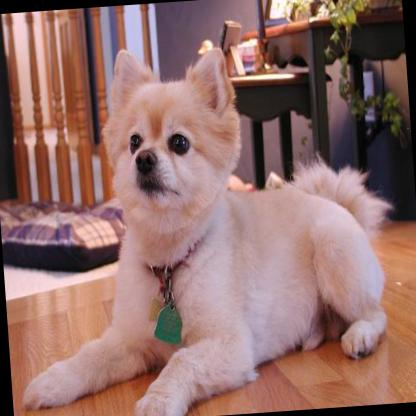Pomeranian: (0, 29, 405, 416)
